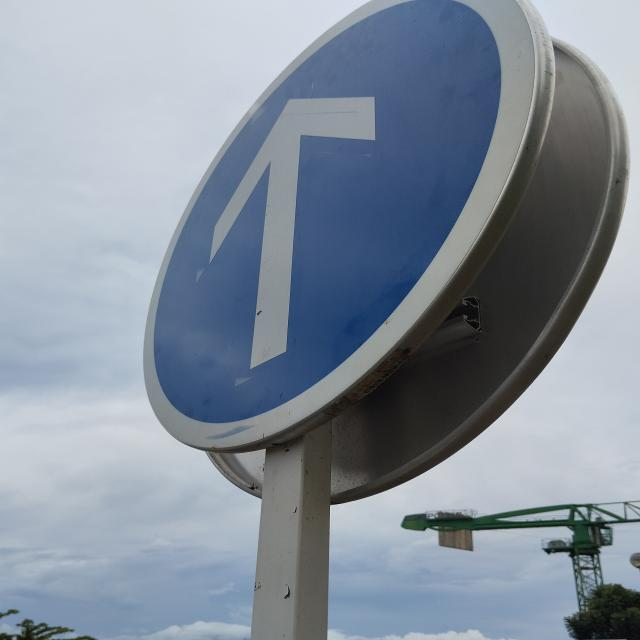Sens-Unique: (140, 0, 547, 451)
